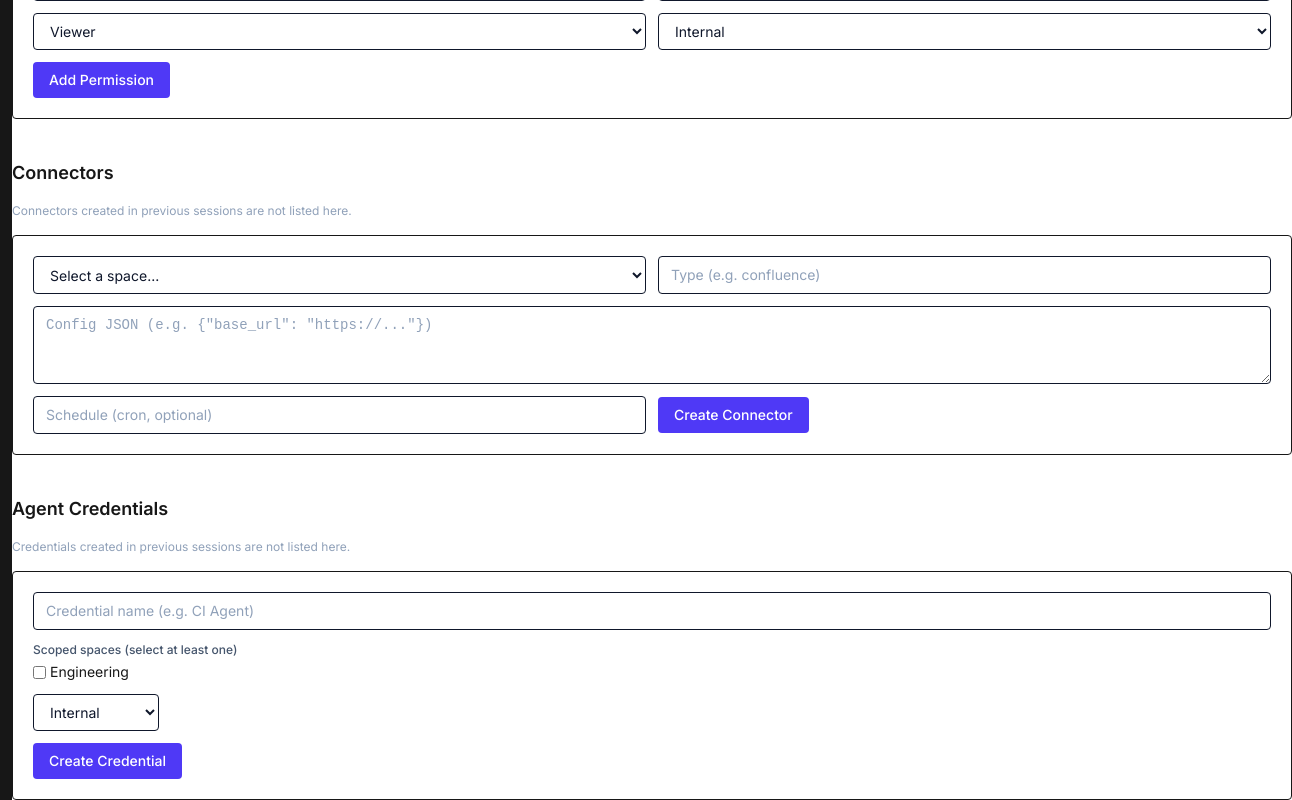
Test: Admin page — Agent Credentials section › displays one-time token with copy button on successful credential creation
(page scrolled)
Type "CI Agent" into the field with placeholder "Credential name (e.g. CI Agent)" at (652, 611), box [33, 592, 1271, 630]
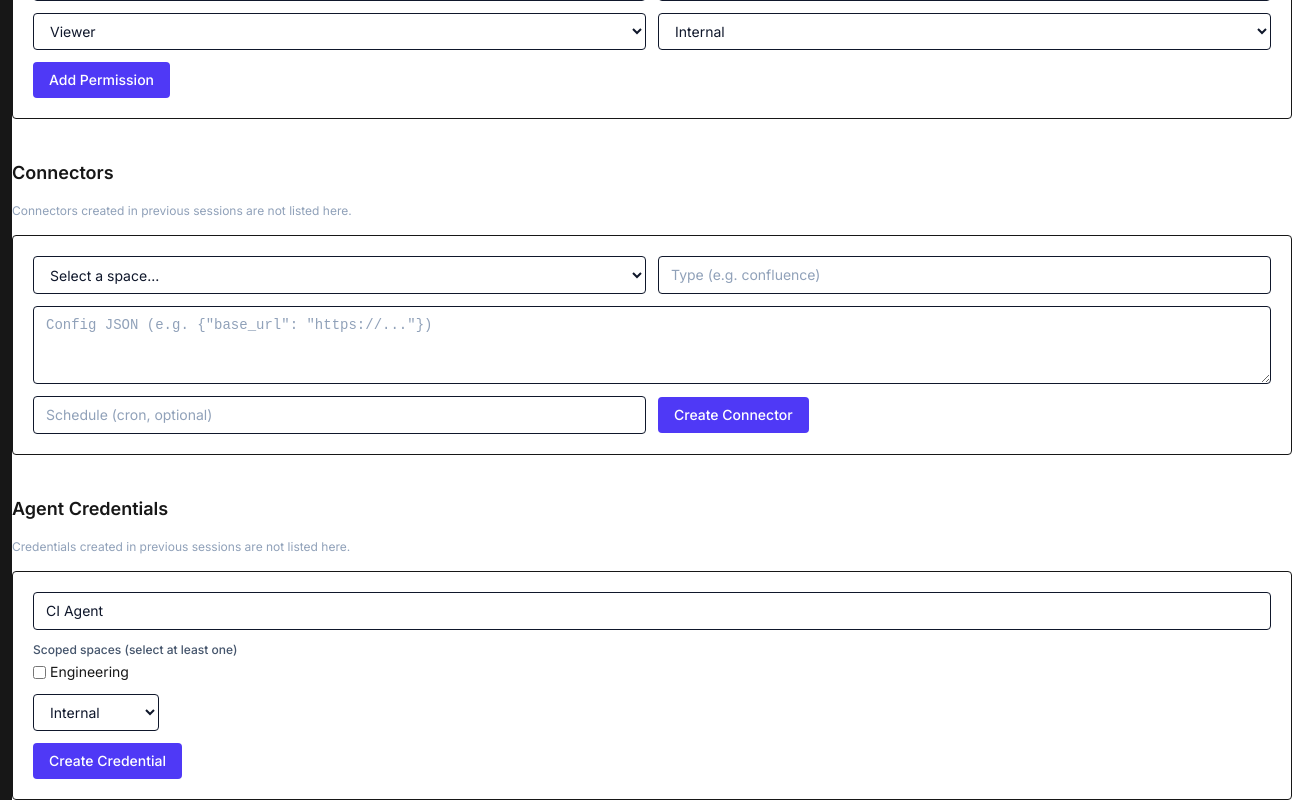
Click the checkbox at (40, 672), box [33, 666, 46, 678]
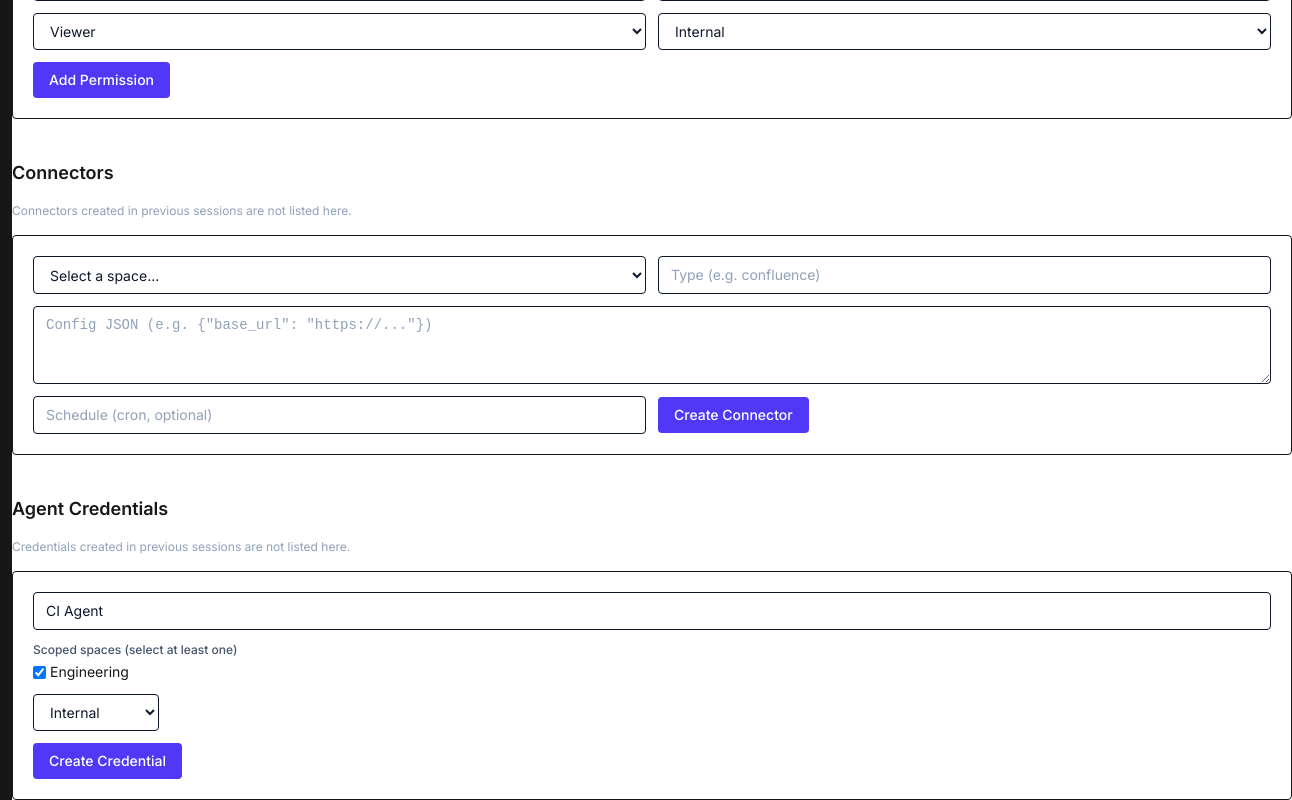
Click the button "Create Credential" at (108, 761), box [33, 743, 182, 779]
(page scrolled)
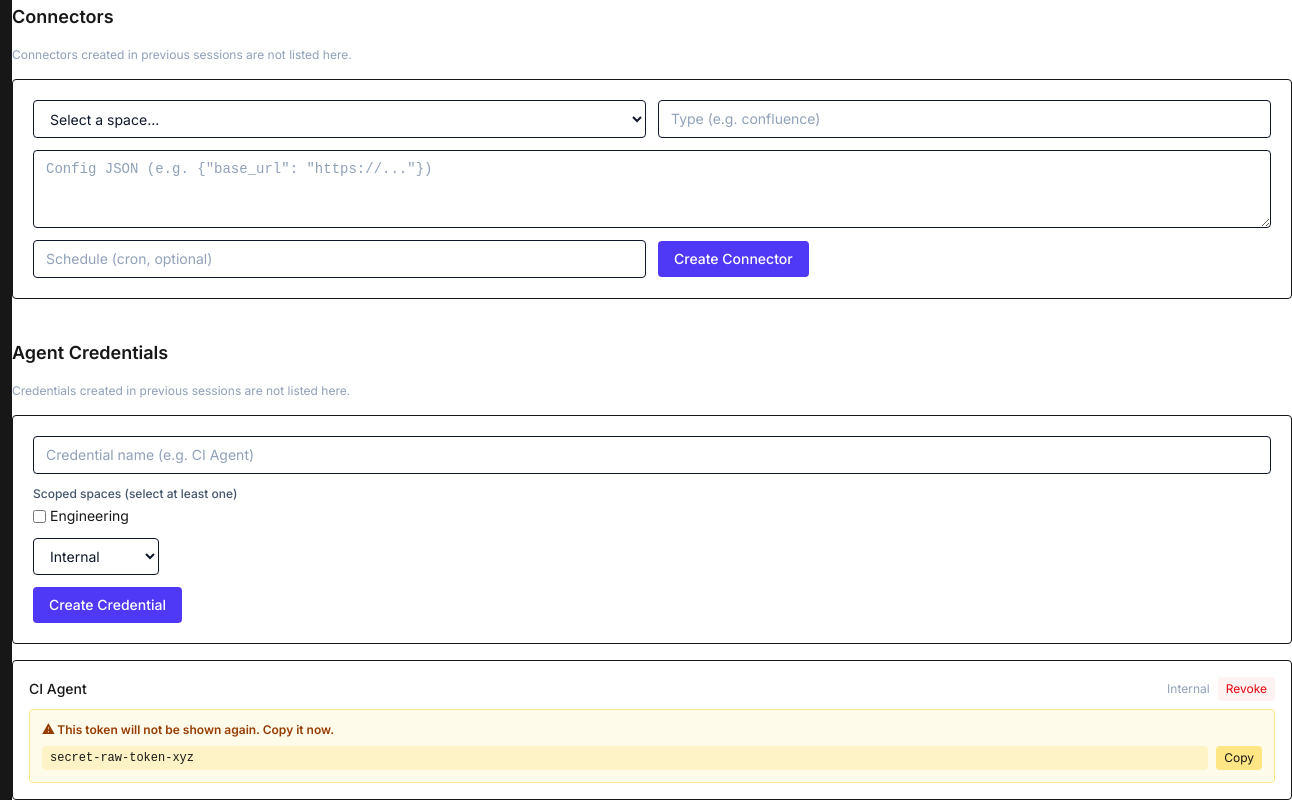
Check: the text "secret-raw-token-xyz" is shown, box [42, 746, 1208, 770]
Check: the text "⚠ This token will not be shown again. Copy it now." is shown, box [42, 722, 334, 737]
Check: the button "Copy" is shown, box [1216, 746, 1262, 770]
